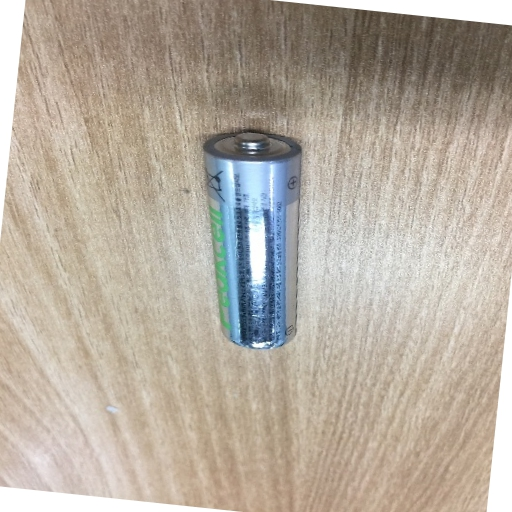Battery_0: (198, 119, 315, 354)
